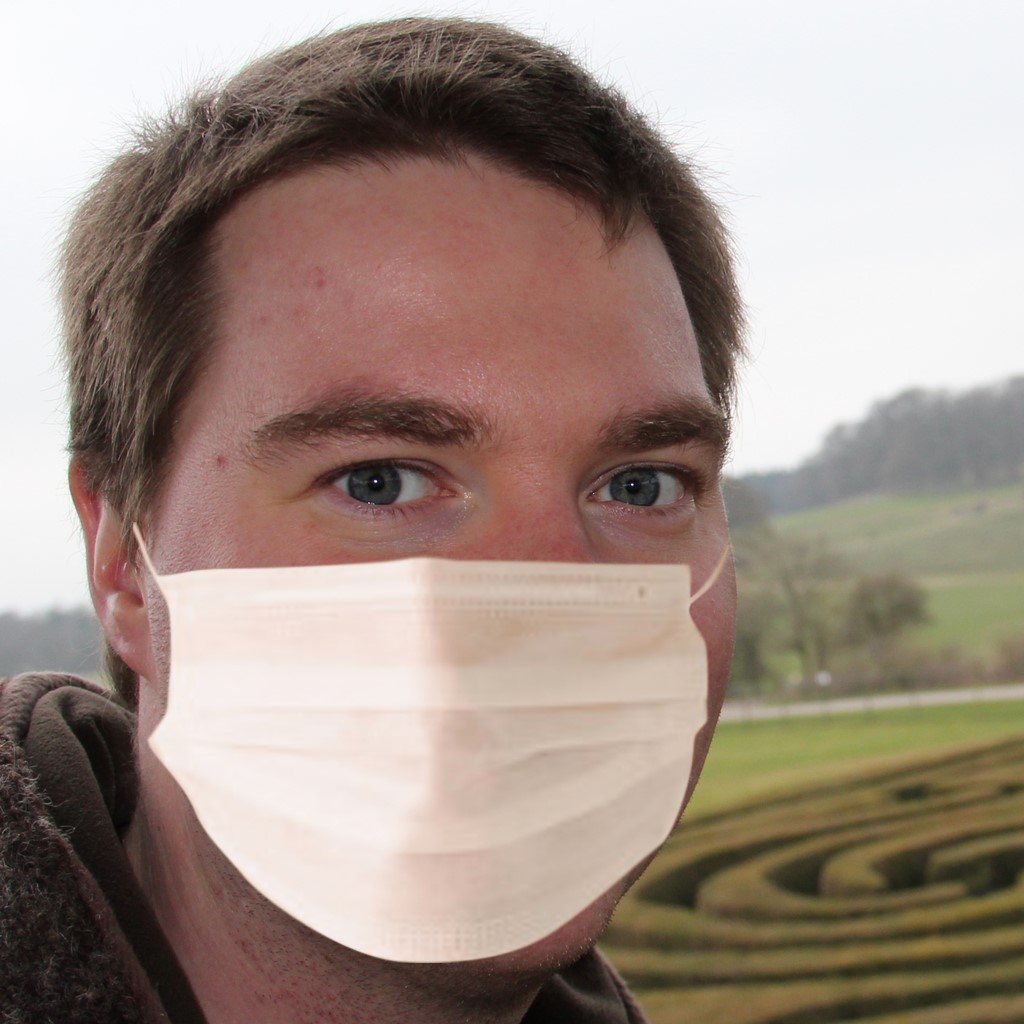con_mascara: (107, 128, 738, 988)
